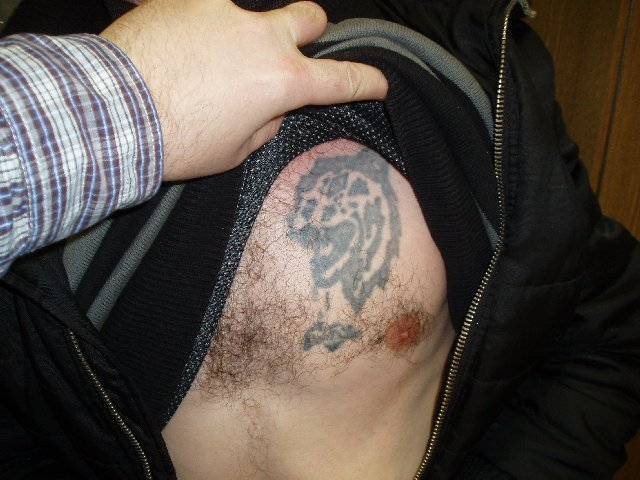tatu5_tigr: (273, 146, 421, 316)
